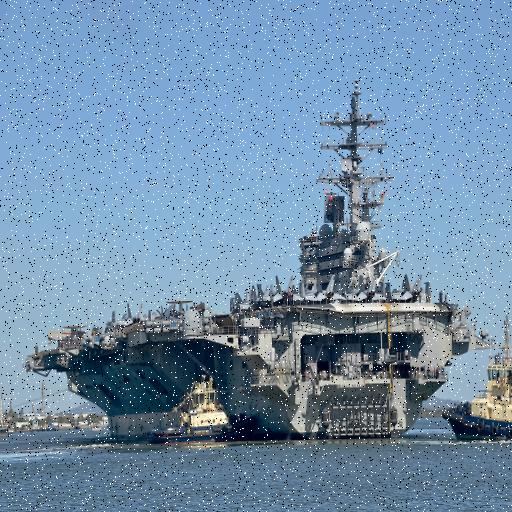Portanaves: (24, 71, 482, 440)
